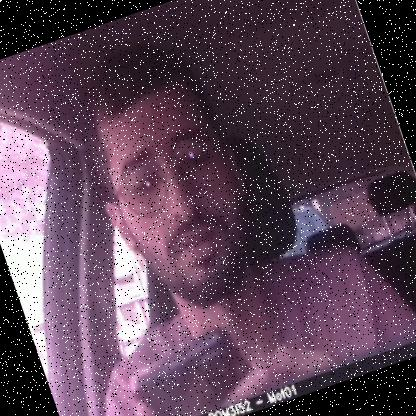phone: (116, 321, 267, 415)
